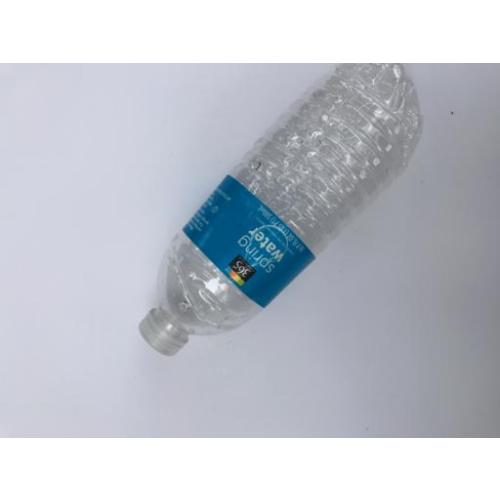plastic: (139, 61, 424, 358)
